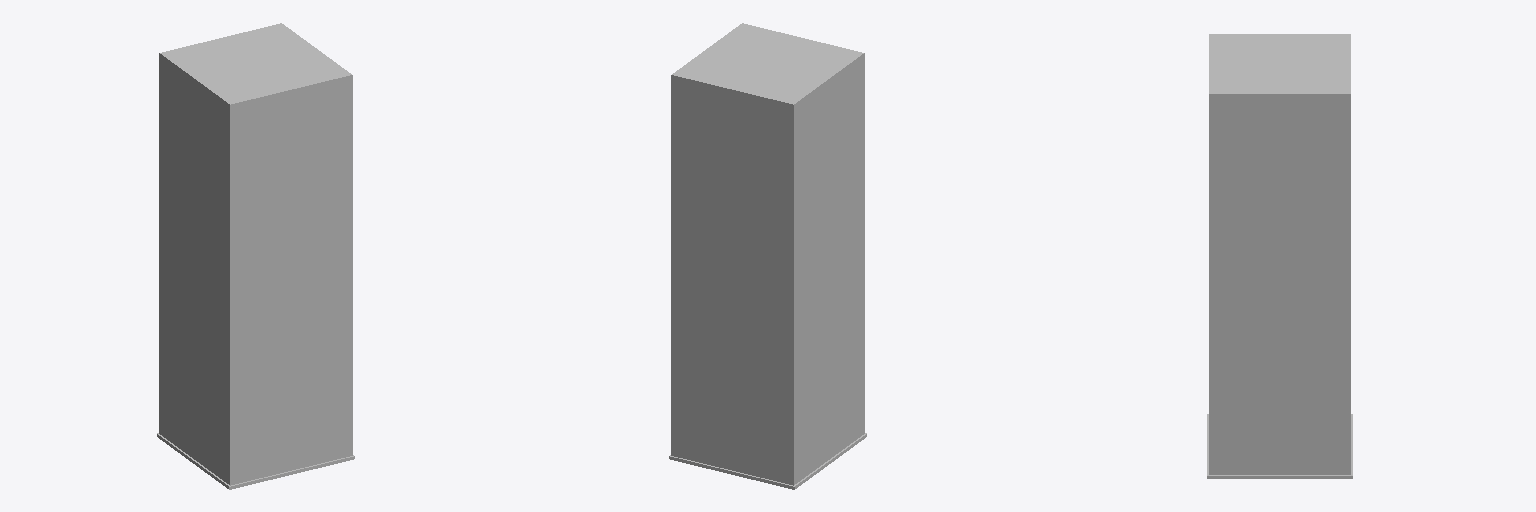
The model's file is WallSolid.obj.
3 views of the same model, side by side, from view 1: azimuth 30°, elevation 25°; view 2: azimuth 150°, elevation 25°; view 3: azimuth 270°, elevation 25° (orthographic).
Parts seen in each view (by area): view 1: Cube; view 2: Cube; view 3: Cube.
Part boxes in pixels (bbox=[...]): Cube: bbox=[157, 23, 354, 489]; Cube: bbox=[669, 23, 866, 489]; Cube: bbox=[1207, 34, 1352, 478].
Size of the model in its own units: 2.06 by 6 by 2.06.